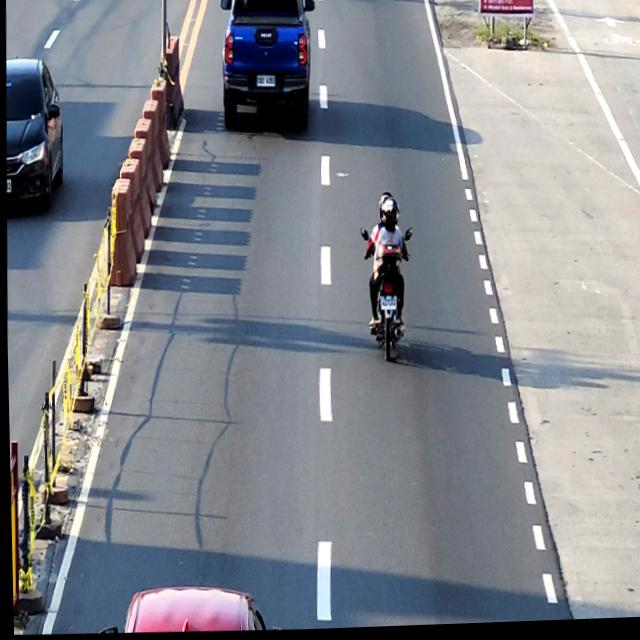Car: (218, 0, 317, 135), (95, 582, 283, 637), (3, 56, 66, 217)
License-Plate: (255, 76, 275, 89), (379, 299, 395, 312), (6, 179, 10, 192)
Motorcycle: (358, 226, 413, 362)
